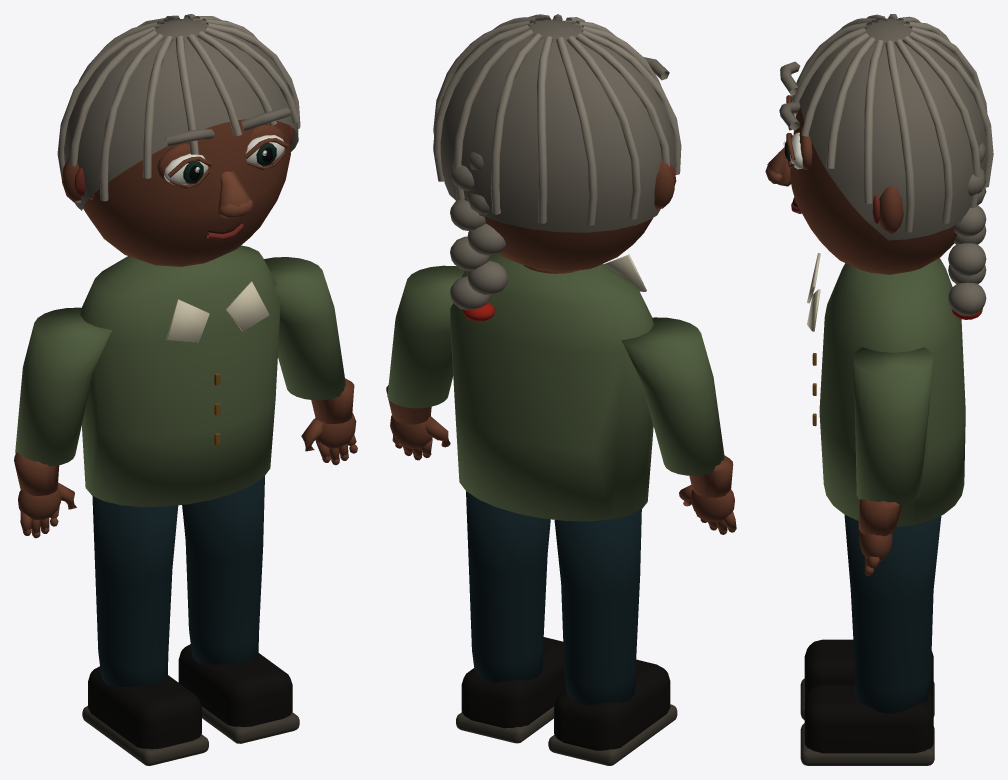
The model's file is patient-05.glb.
The picture shows the model from 3 angles, left to right: view 1: azimuth 30°, elevation 25°; view 2: azimuth 150°, elevation 25°; view 3: azimuth 270°, elevation 25°; orthographic projection.
Visible parts, largest first — view 1: Head, Body, LegL, LegR, ArmL, ArmR; view 2: Body, Head, LegL, LegR, ArmL, ArmR; view 3: Head, Body, LegR, ArmR, LegL.
Part boxes in pixels (<box>): Head: <box>57,14,300,266</box>; Body: <box>80,222,280,506</box>; LegL: <box>82,496,208,765</box>; LegR: <box>178,476,299,743</box>; ArmL: <box>14,307,112,538</box>; ArmR: <box>264,257,357,465</box>; Body: <box>450,199,653,521</box>; Head: <box>433,14,681,272</box>; LegL: <box>548,509,677,765</box>; LegR: <box>456,491,566,743</box>; ArmL: <box>621,317,736,534</box>; ArmR: <box>386,265,464,460</box>; Head: <box>765,14,993,274</box>; Body: <box>791,197,986,526</box>; LegR: <box>800,515,941,765</box>; ArmR: <box>853,347,933,575</box>; LegL: <box>800,639,934,719</box>.
Bounding box in the file's own units: 0.6391 × 1.26 × 0.3723.
